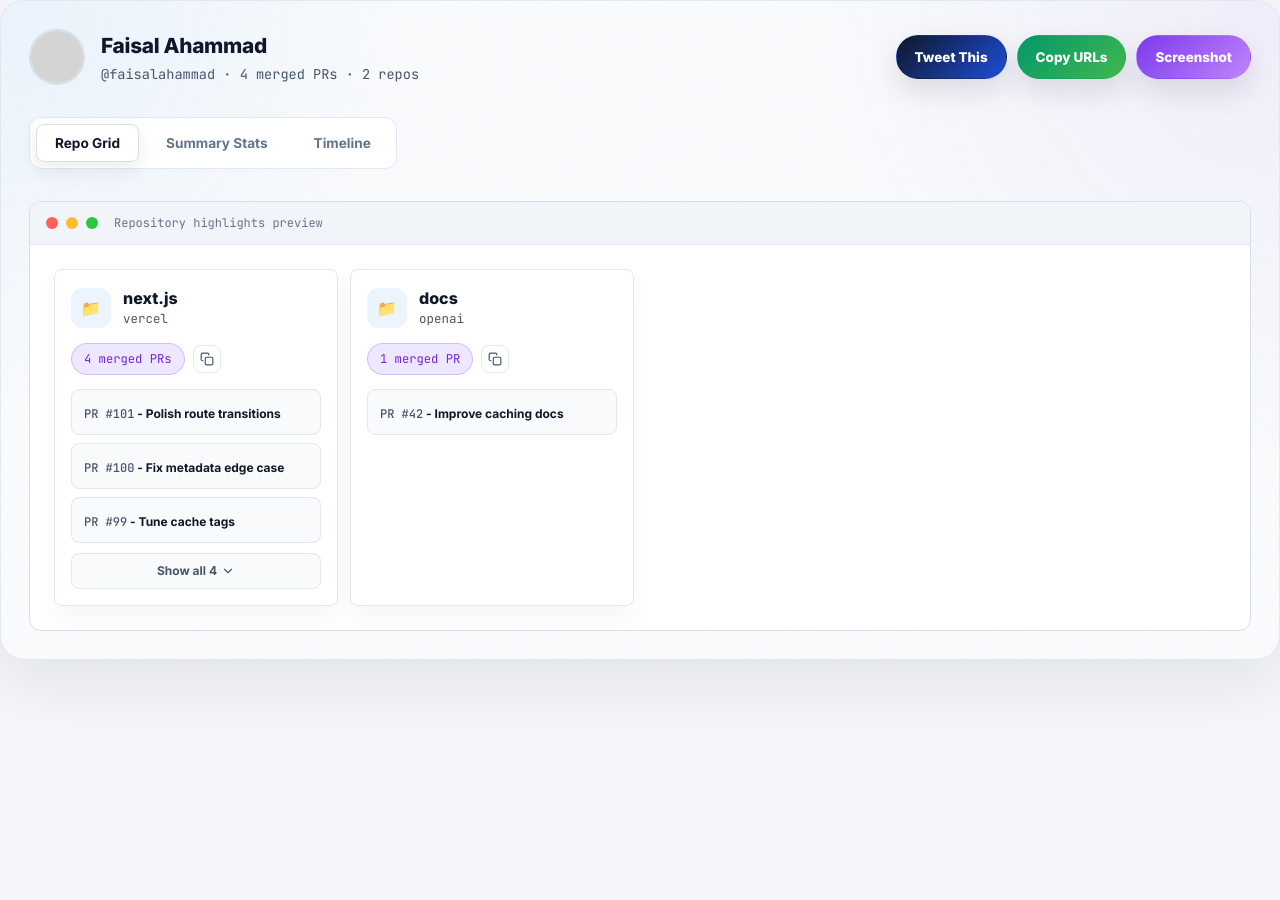
Scenario: ProfileResults › shows an expand toggle for repos with more than 3 PRs and reveals the rest on click
The width and height of the screenshot is (1280, 900).
Click the button with aria-label "show all prs for vercel/next.js" at [196, 571], box 71,553 -> 321,589
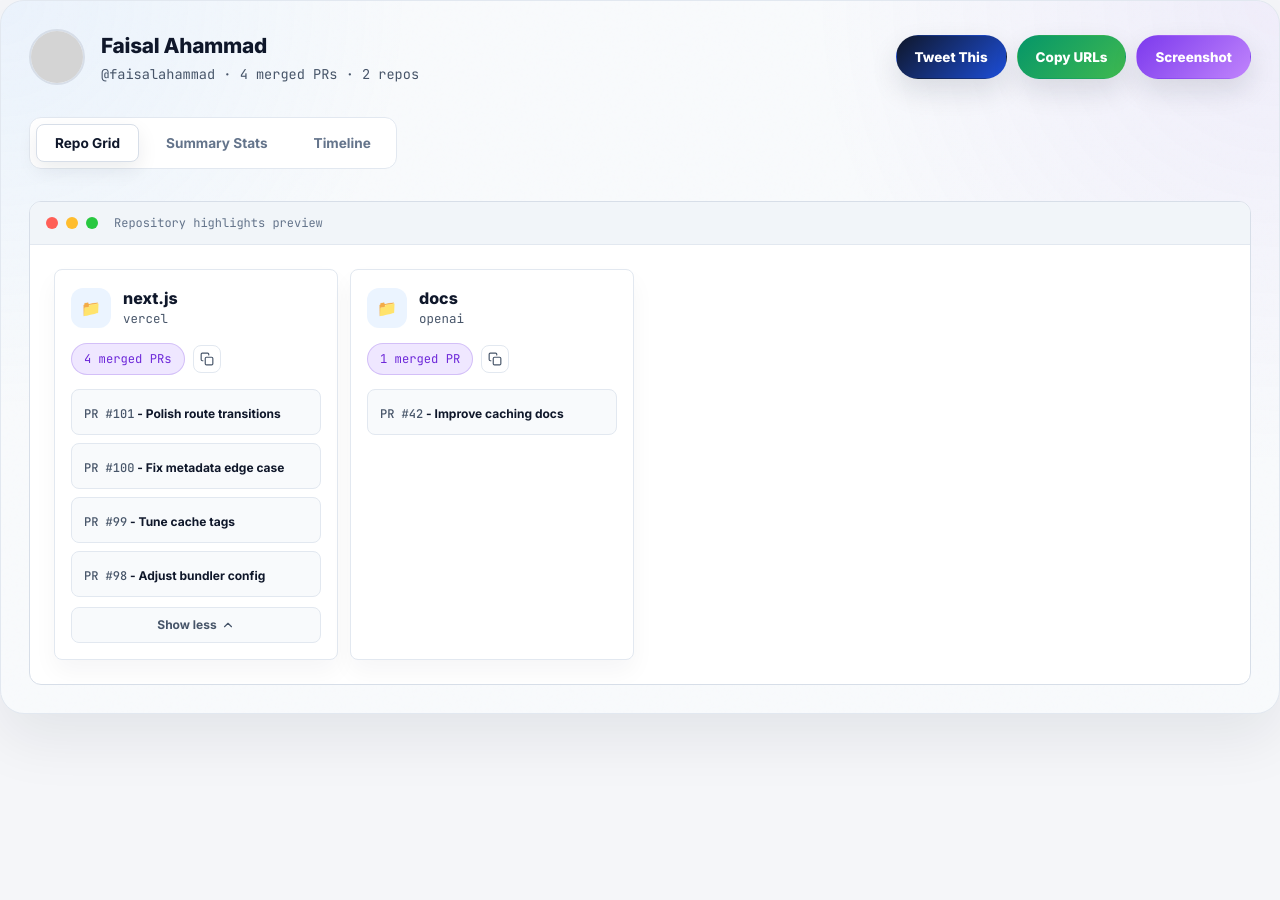
Expected: the text "PR #99 - Tune cache tags" is shown, 84,514 -> 235,529
Expected: the button with aria-label "show fewer prs for vercel/next.js" is shown, 71,607 -> 321,643
